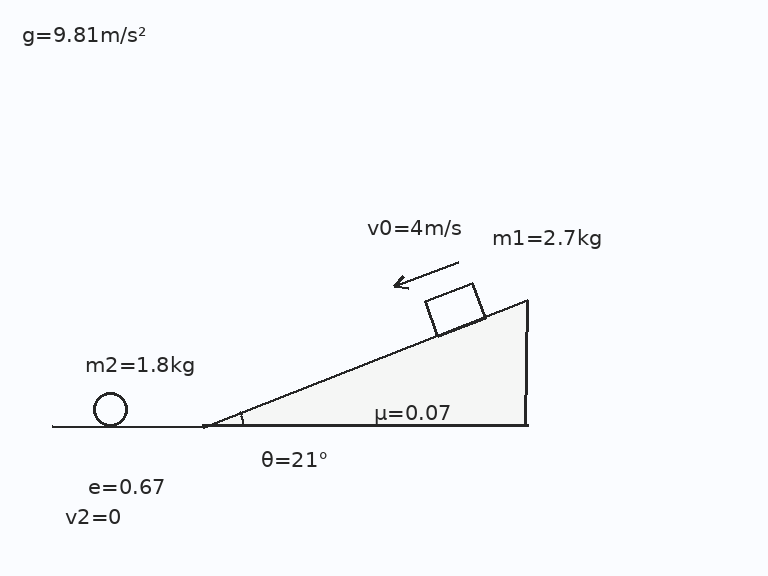ball: (91, 390, 129, 428)
block: (422, 281, 487, 338)
ramp: (201, 300, 529, 428)
